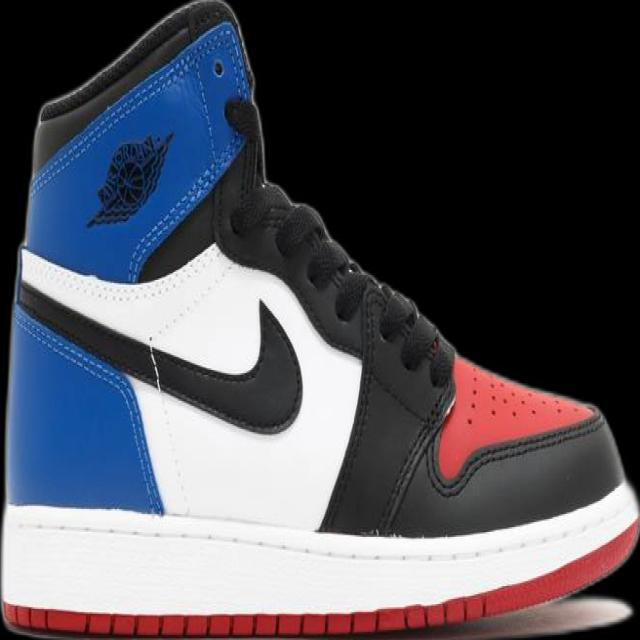J1_InsoleChar: (0, 0, 639, 639)
J1_ShoeLogo: (84, 128, 174, 229)
J1_StitchPattern: (222, 95, 456, 530), (1, 488, 637, 635), (14, 243, 302, 433), (5, 498, 636, 568), (374, 354, 602, 533), (243, 178, 443, 375), (2, 598, 488, 637), (14, 277, 164, 393), (425, 408, 607, 498), (374, 401, 445, 534), (141, 339, 193, 517), (356, 276, 446, 376), (464, 369, 562, 425), (222, 93, 269, 197), (477, 378, 534, 421)
